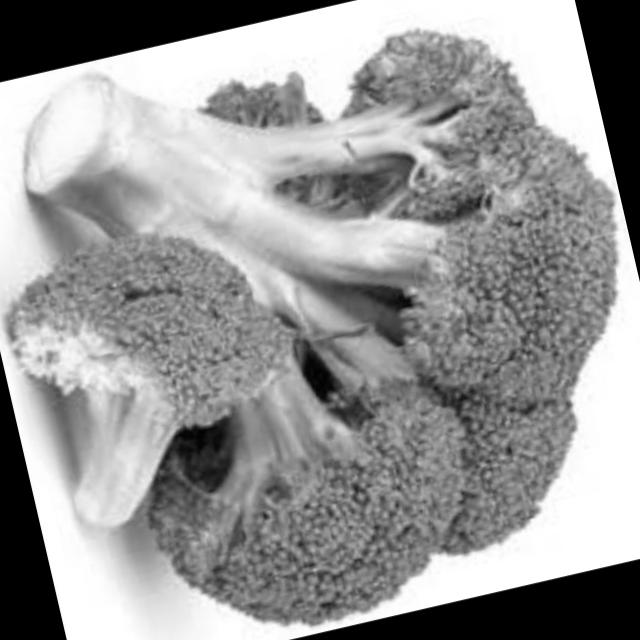broccoli: (0, 0, 640, 640), (0, 193, 331, 593)
